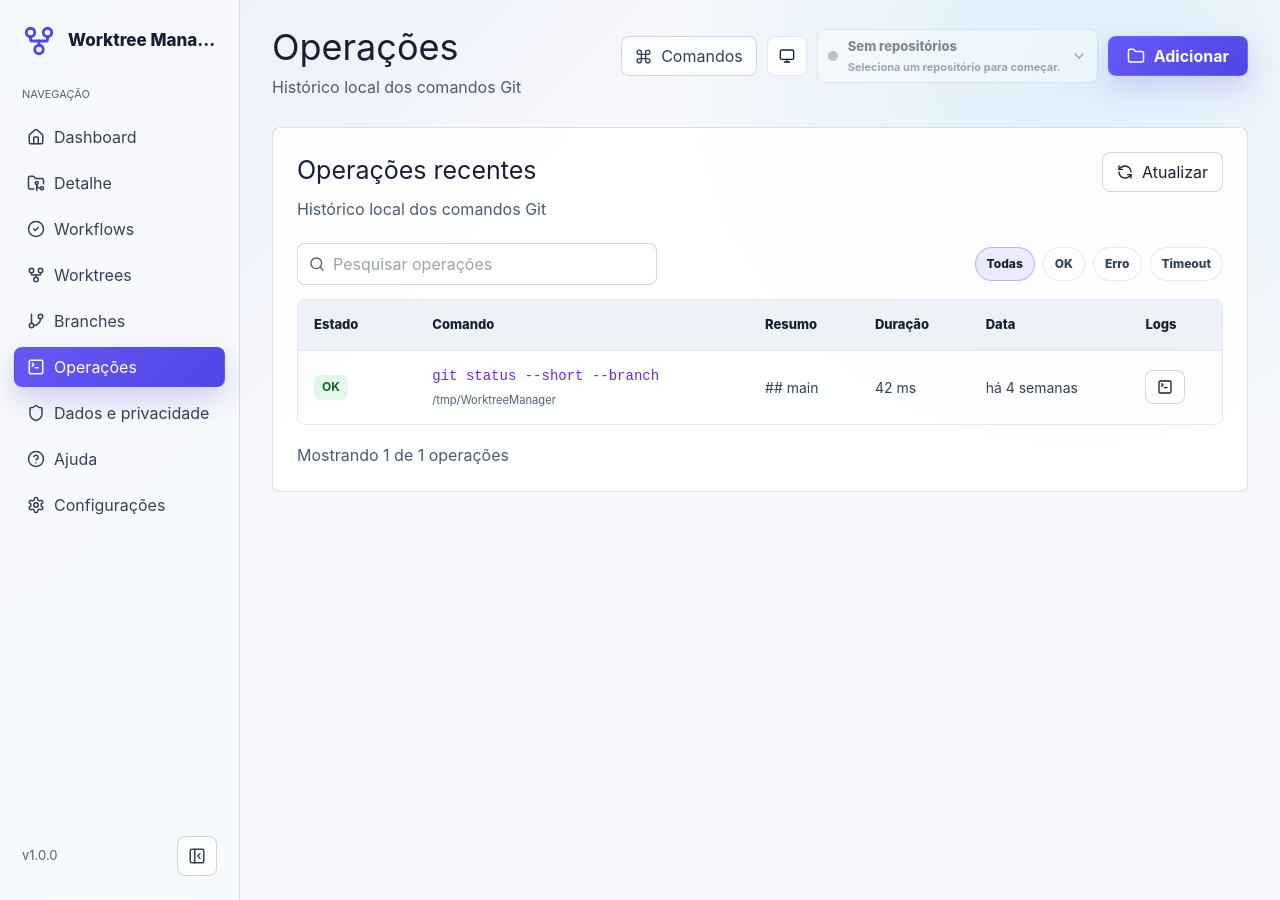
Test: App › expands detailed operation logs
Expected: the text "git status --short --branch" is shown, [432,368,659,384]
Expected: the text "42 ms" is shown, [859,350,970,424]
Click the button named "Ver logs de git status --short --branch". click: (1165, 387)
box: [1145,370,1185,404]
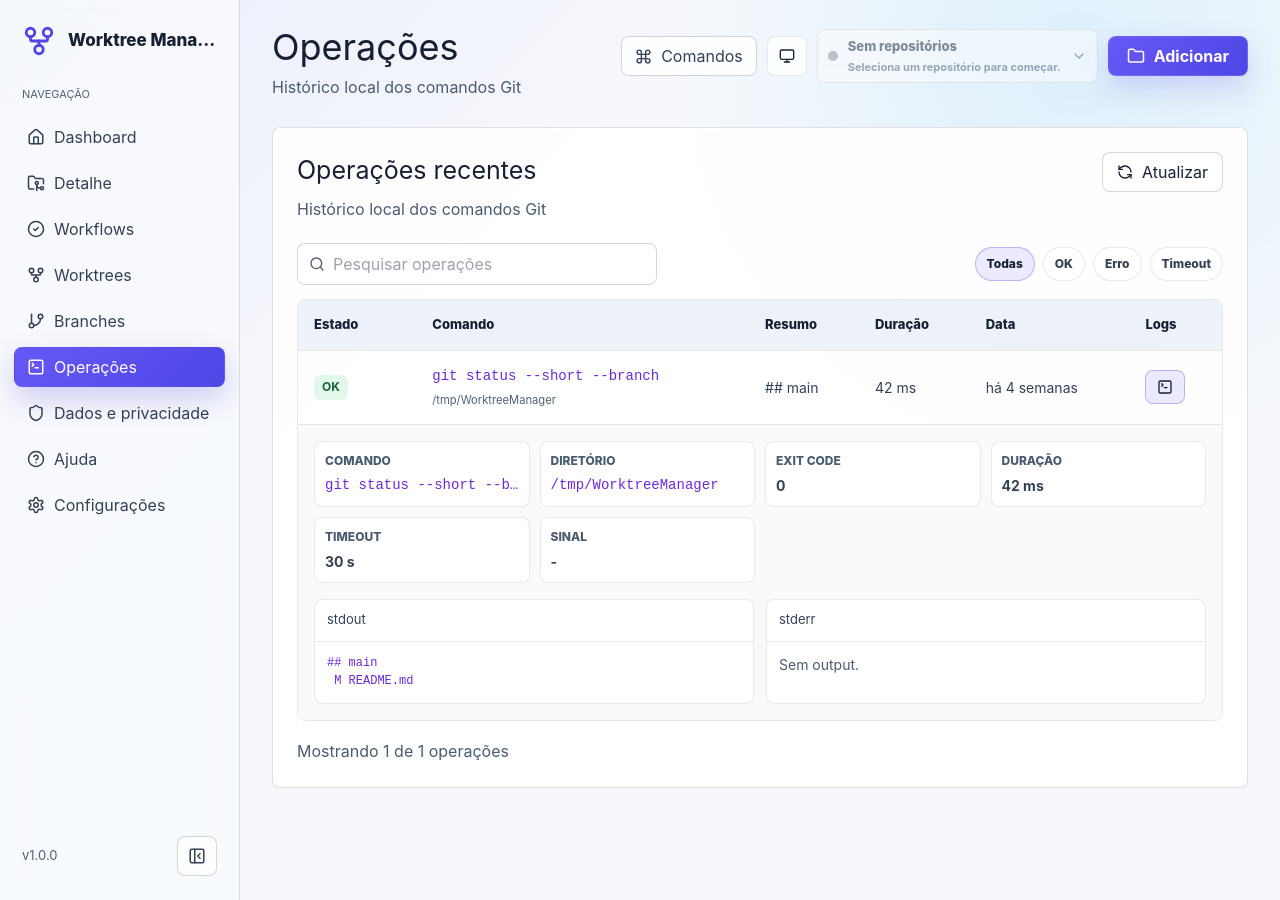
Expected: the heading "stdout" is shown, [327,610,366,630]
Expected: the heading "stderr" is shown, [779,610,816,630]
Expected: the text "## main M README.md" is shown, [327,656,413,688]
